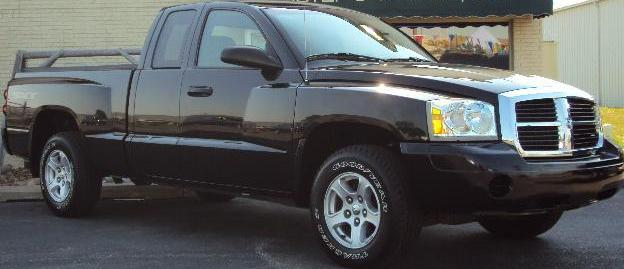front_view: (413, 72, 622, 208)
headlight: (424, 89, 510, 153)
side_glass: (133, 8, 297, 72)
